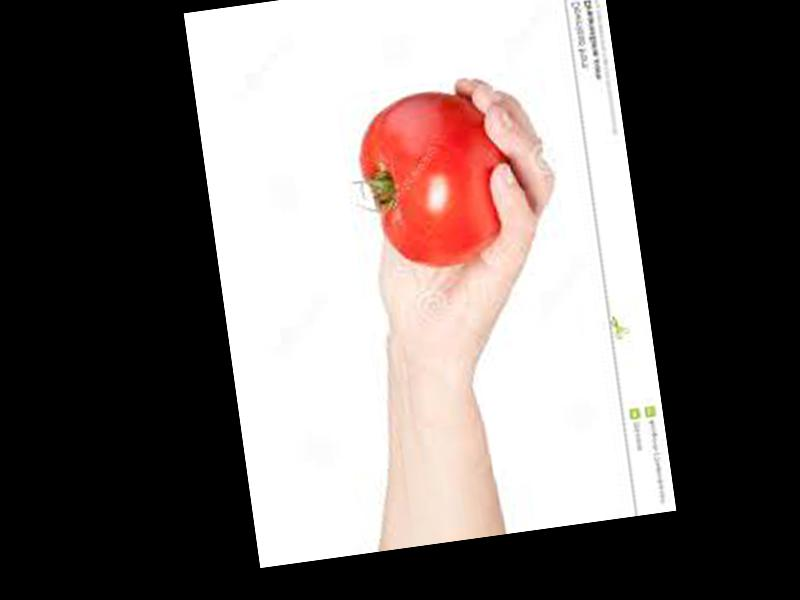Tomato: (350, 82, 521, 278)
